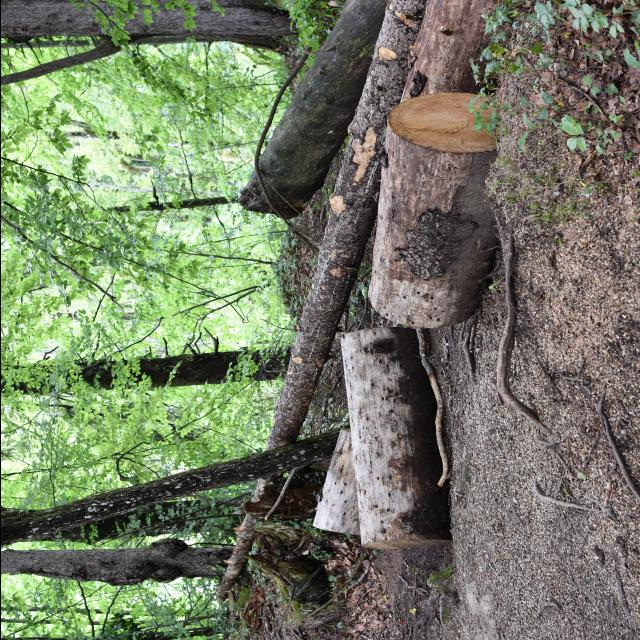restos de madeira: (229, 0, 396, 222), (362, 90, 502, 330), (338, 322, 454, 548), (306, 424, 374, 534), (235, 472, 322, 522)
